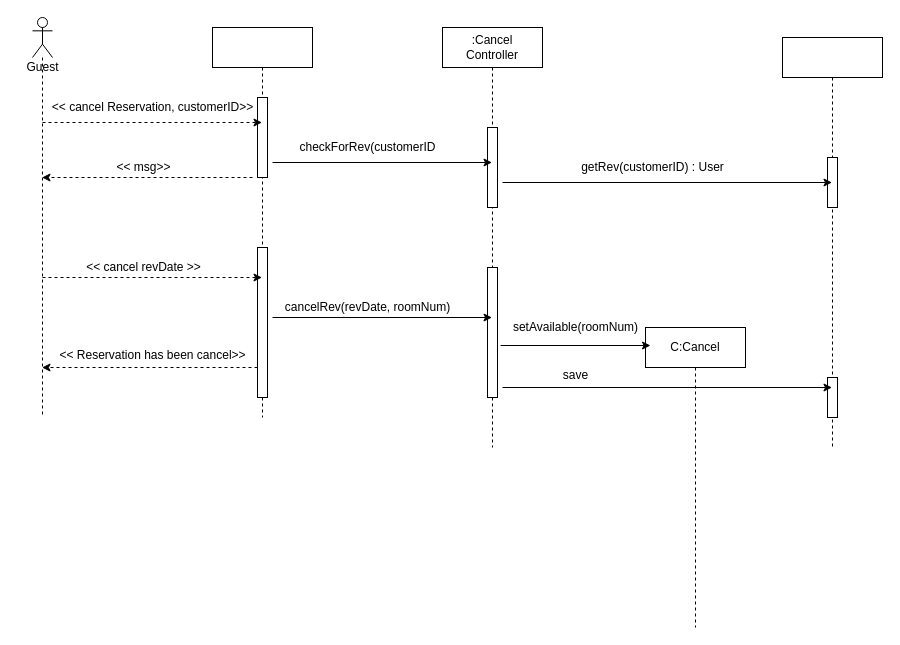
The diagram is 900 pixels wide and 645 high, and some of its shapes have lost their labels. Each missing label, with the centre of its shape:
":Cancel GUI" belongs at point 262,222.
":DBMgr" belongs at point 832,242.
